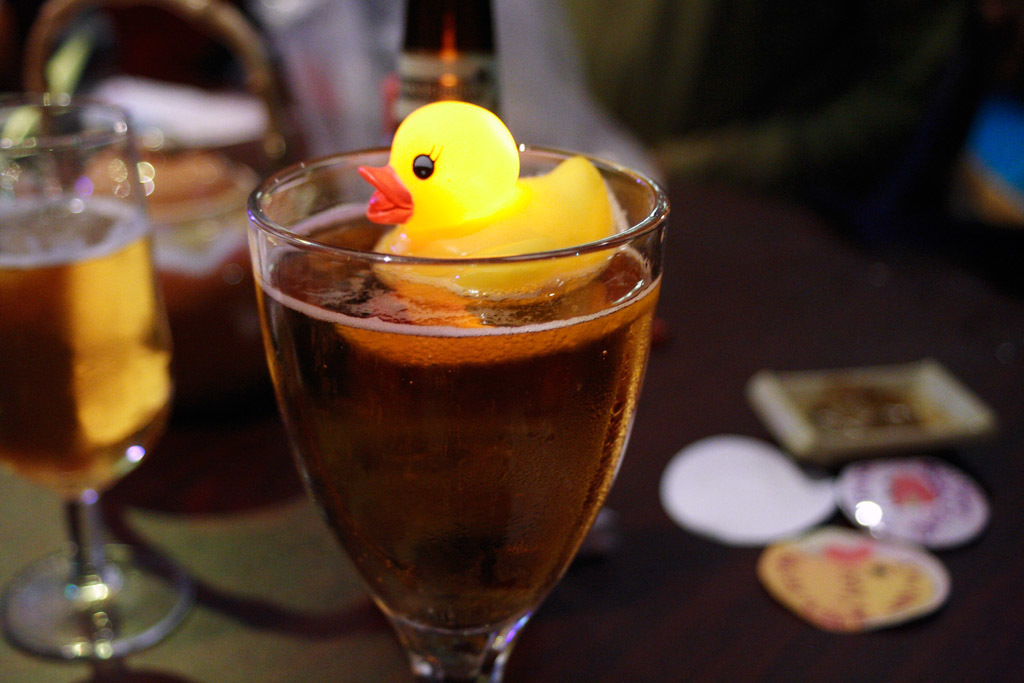Beer: (256, 154, 659, 682), (1, 198, 172, 493)
